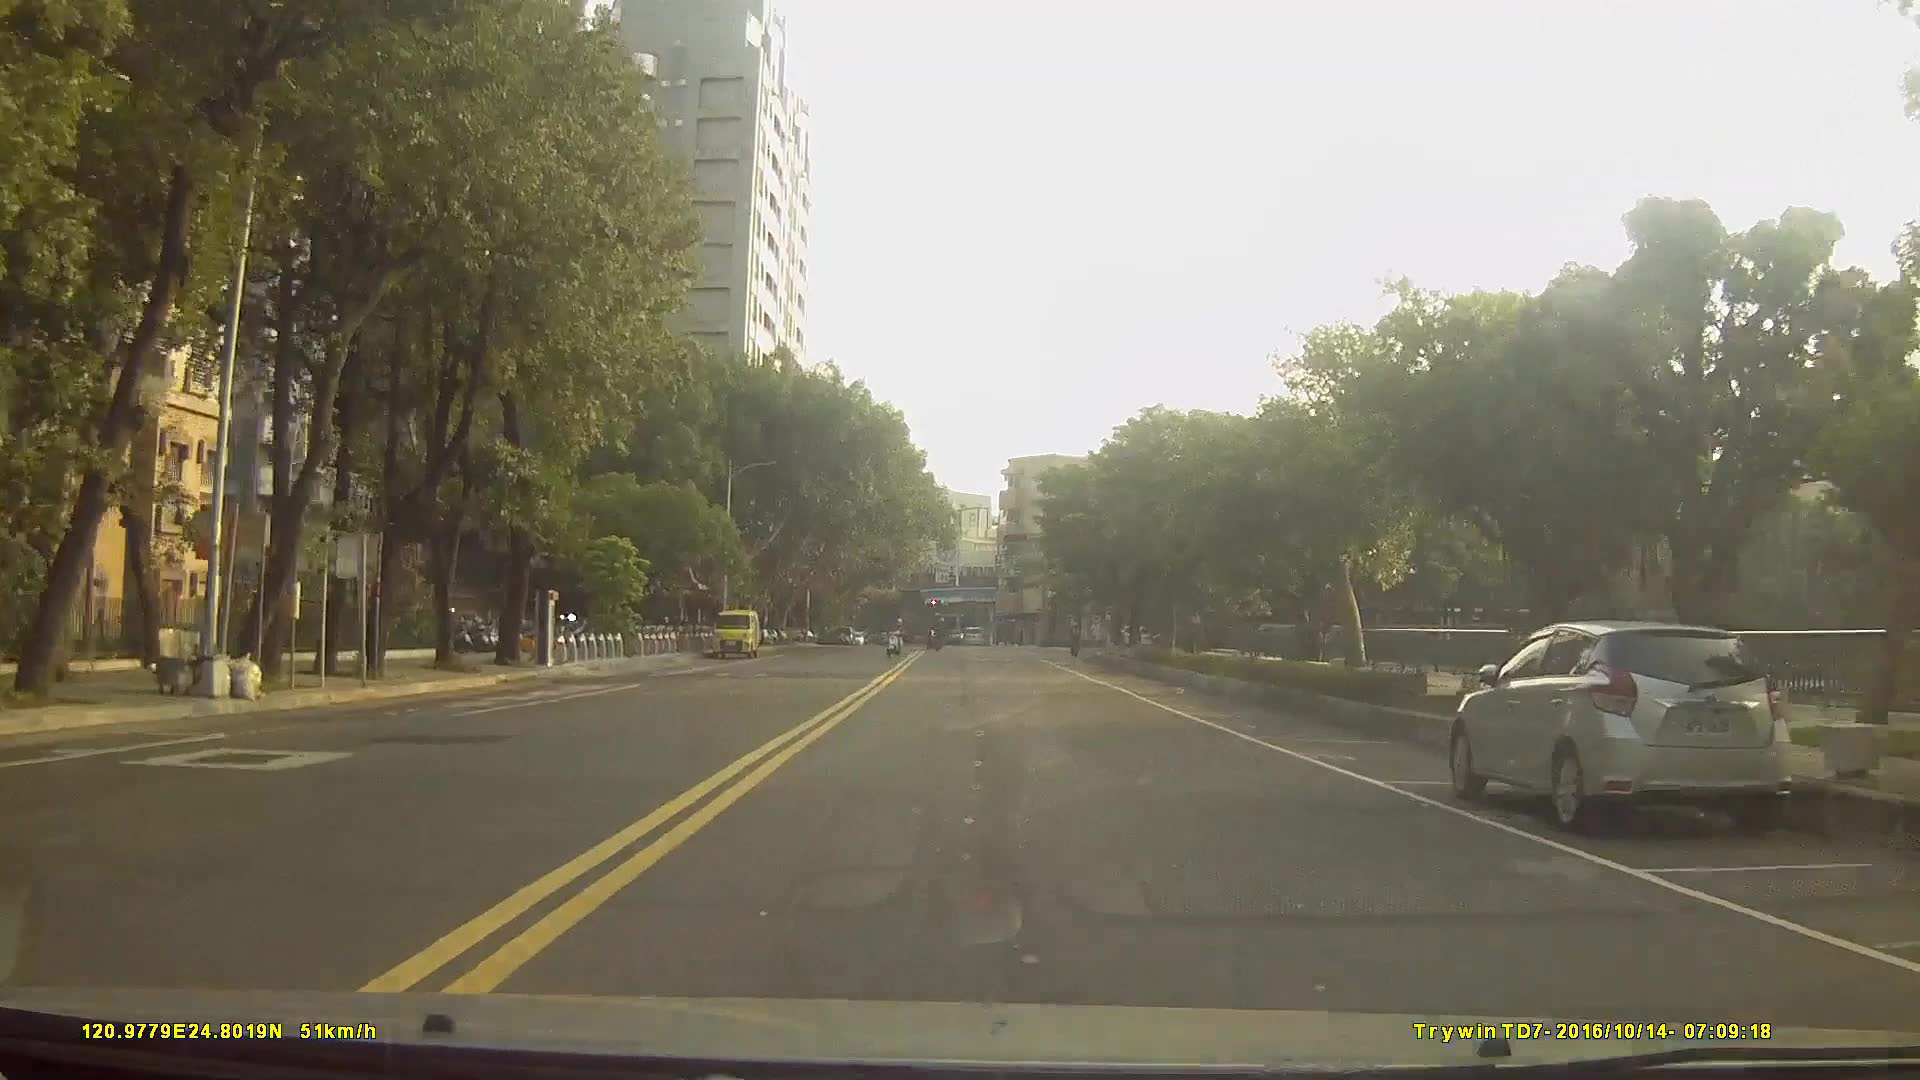pedestrian: (1086, 613, 1106, 656)
rider: (883, 615, 909, 658), (924, 618, 951, 655)
vehicle: (1446, 619, 1795, 832), (960, 625, 986, 649)
